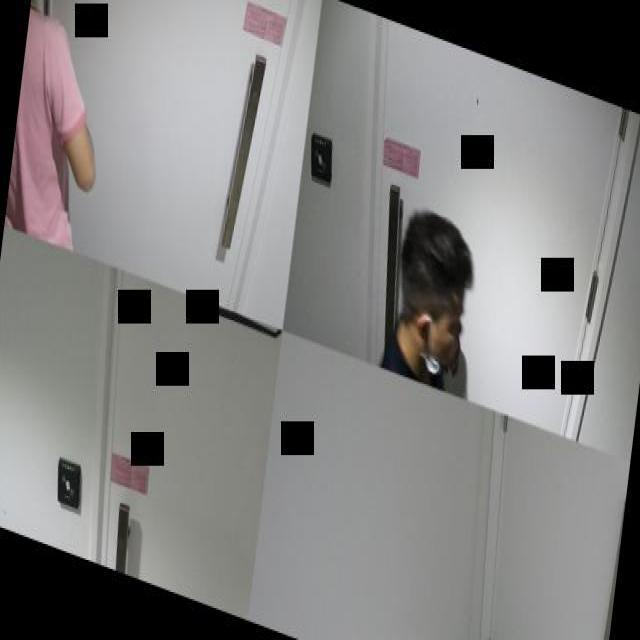hairnet: (425, 288, 466, 375)
